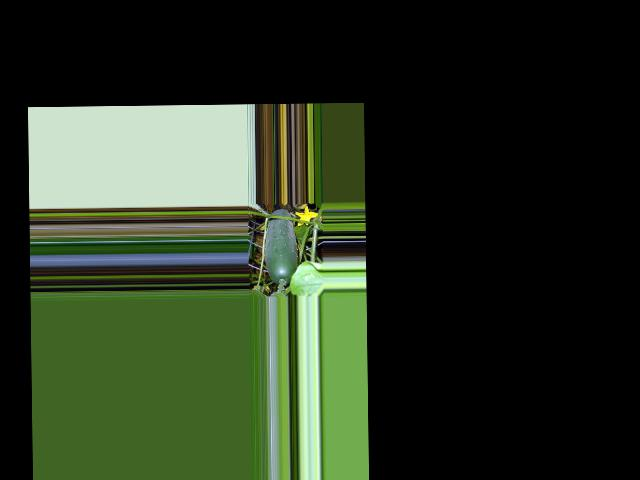cucumber: (264, 209, 297, 286)
